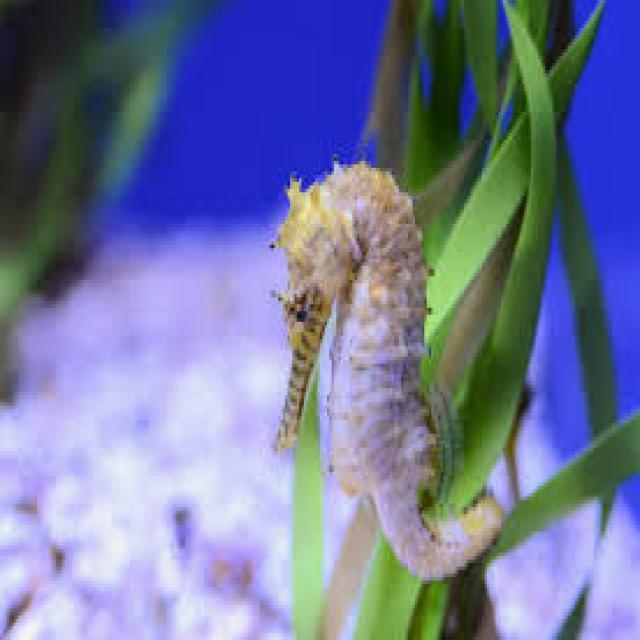SeaHorse: (276, 160, 510, 580)
